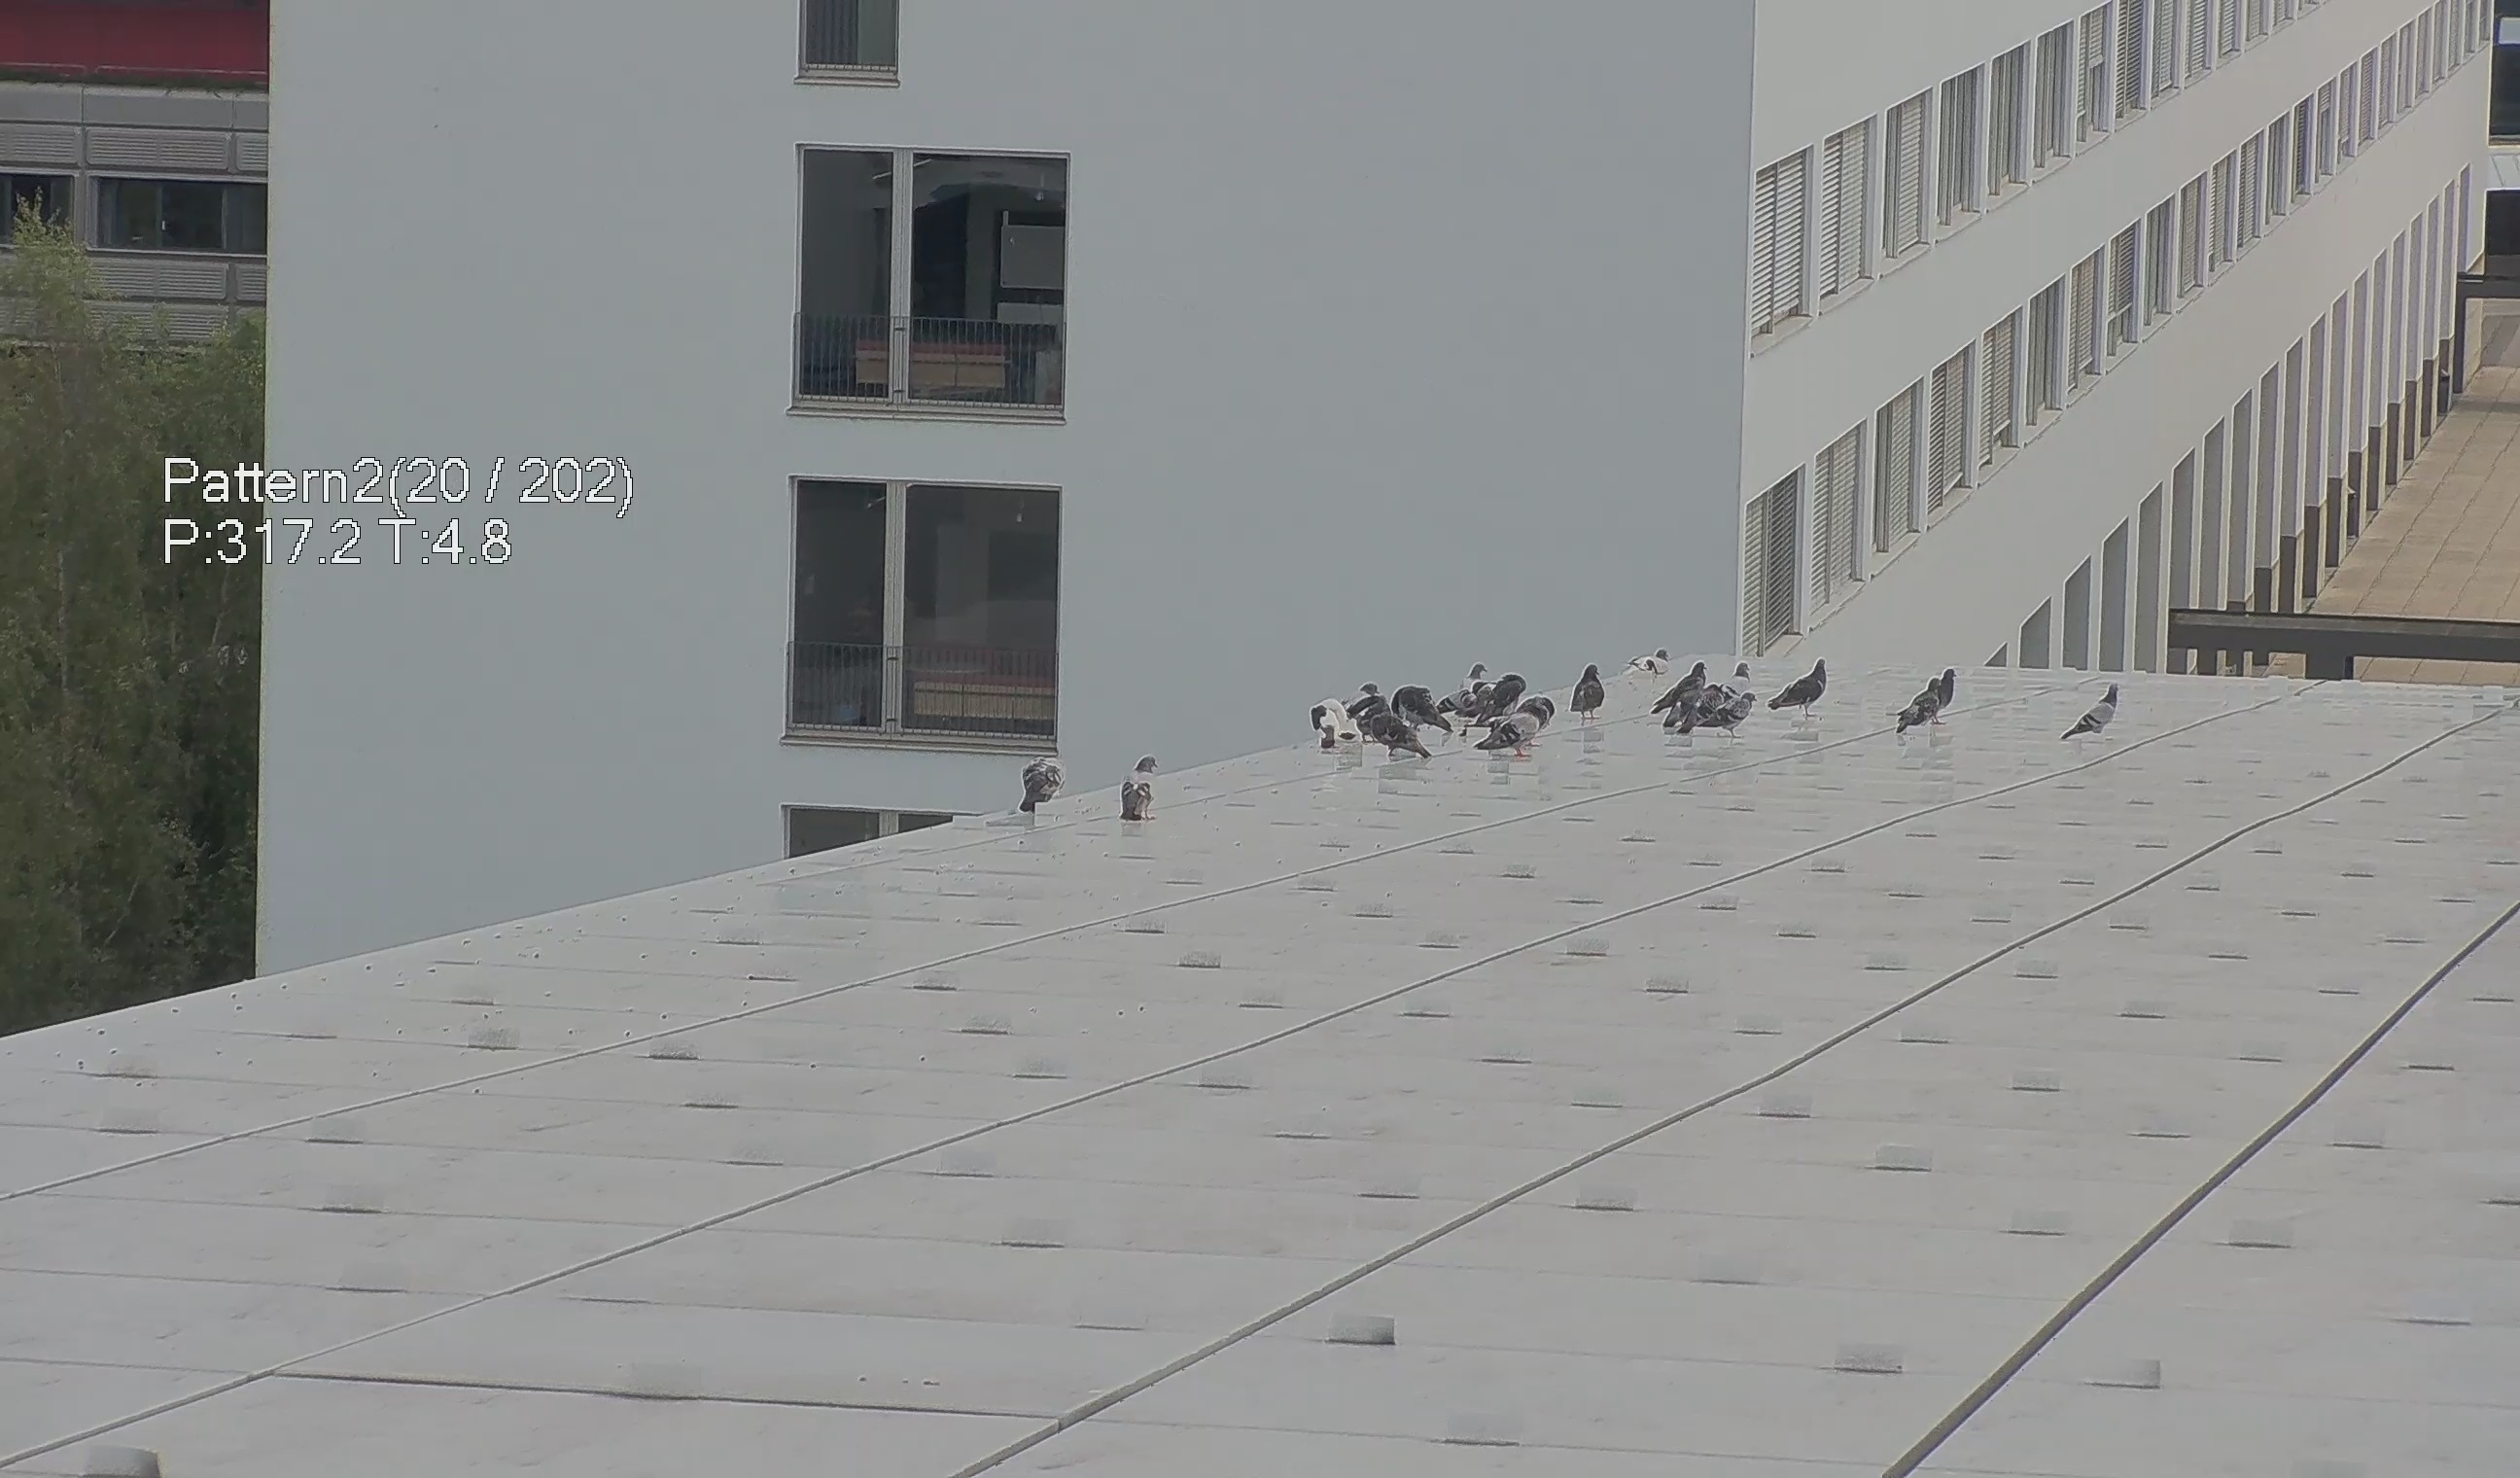Pigeon: (1767, 653, 1832, 720), (1477, 700, 1549, 757), (2056, 681, 2123, 741), (1115, 753, 1168, 829), (1018, 746, 1074, 816), (1899, 665, 1945, 743), (1665, 679, 1727, 735), (1653, 656, 1713, 713), (1702, 681, 1760, 735), (1365, 706, 1423, 760), (1303, 697, 1361, 750), (1386, 681, 1449, 728), (1614, 640, 1671, 686), (1570, 662, 1611, 721), (1479, 676, 1532, 721), (1344, 676, 1386, 716), (1725, 658, 1759, 697), (1454, 662, 1491, 690), (1938, 665, 1957, 709)
